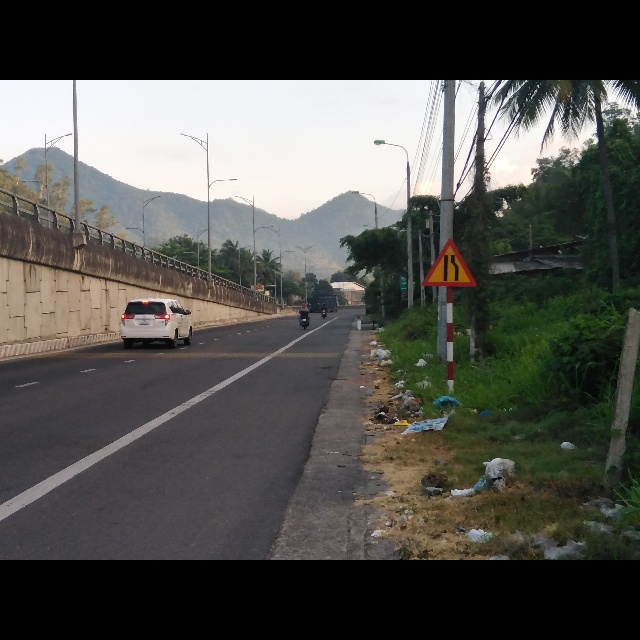Đường bị hẹp bên phải: (422, 239, 476, 287)
